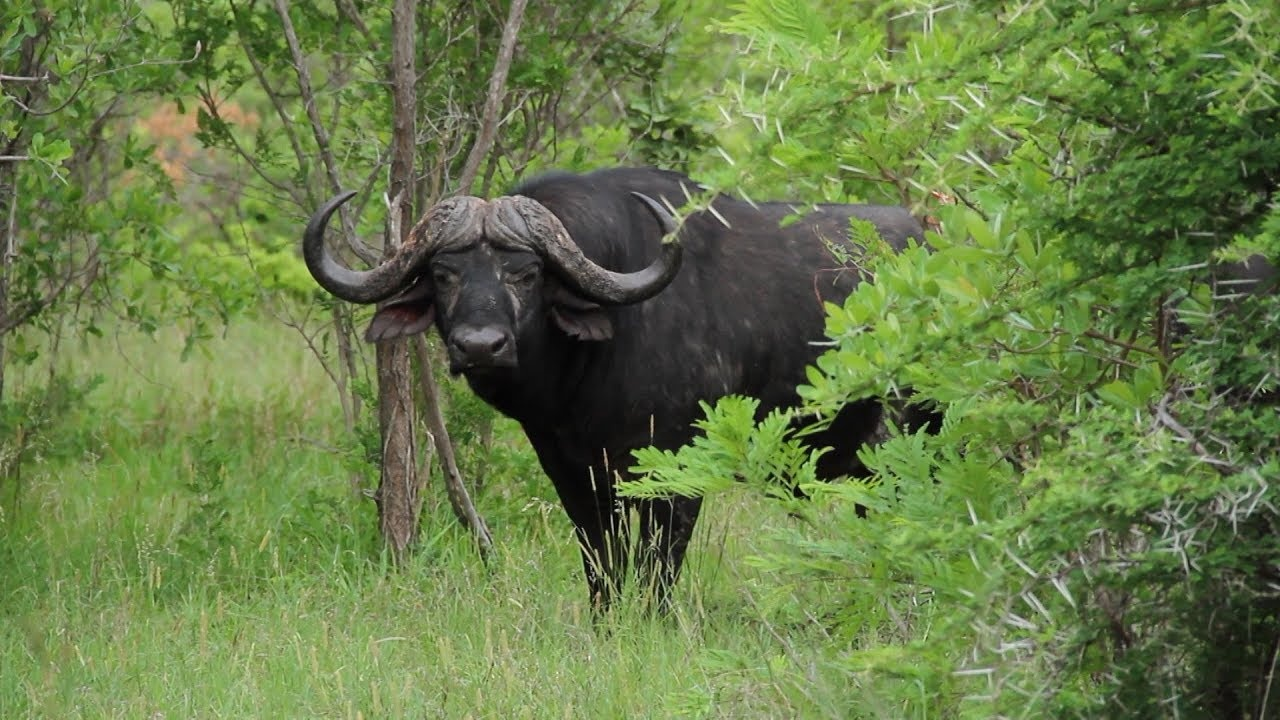buffalo: (290, 176, 956, 619)
